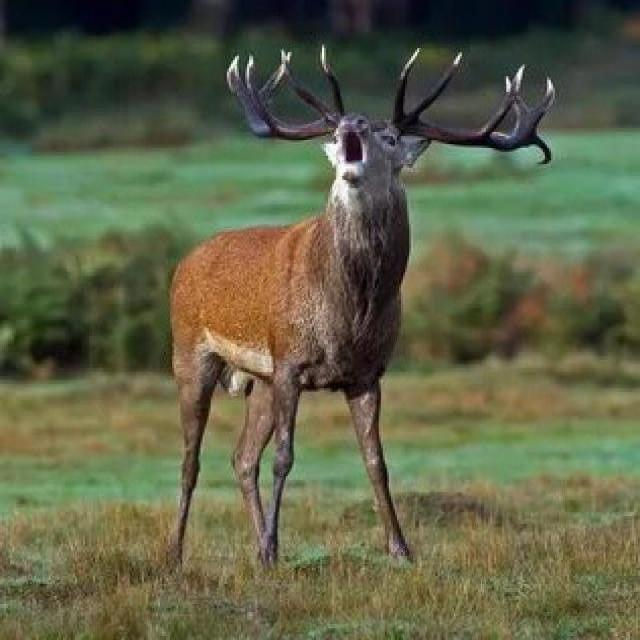deer: (148, 16, 544, 568)
